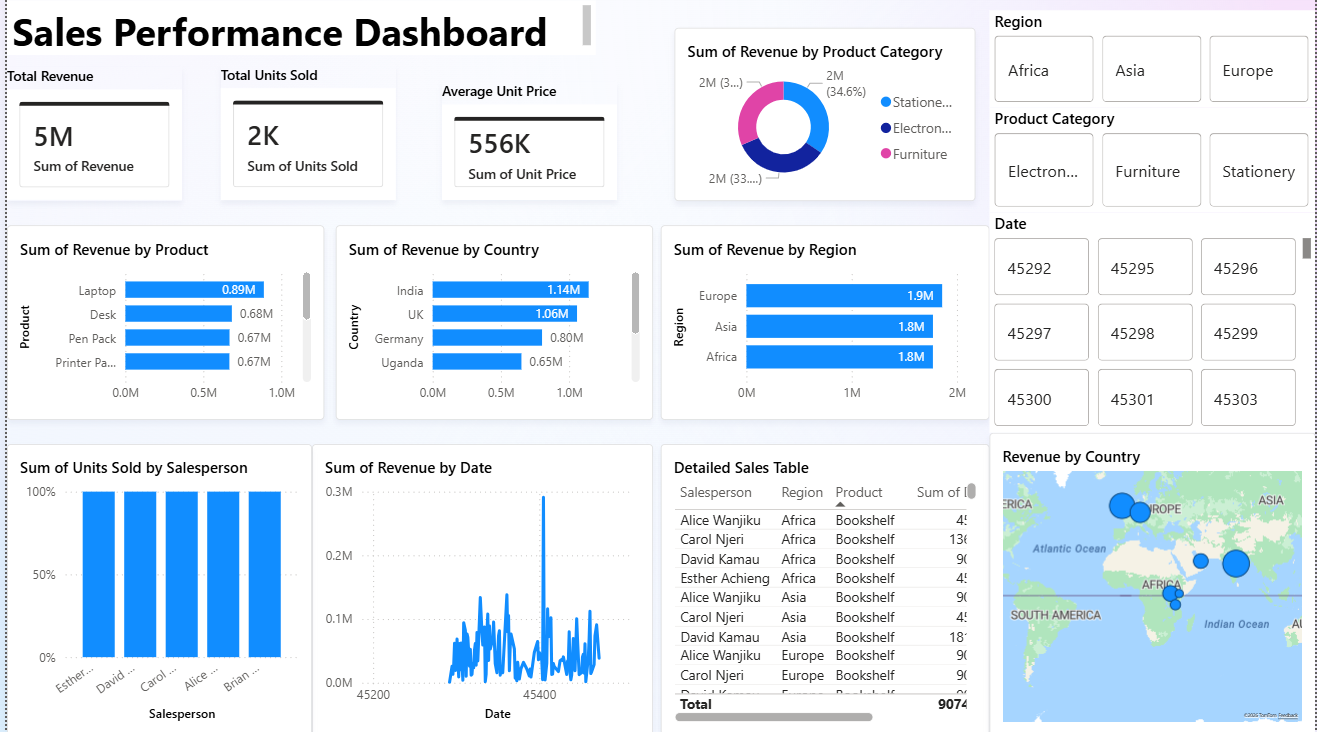

What the dashboard file says about the page in this screenshot:
{"tool":"powerbi","page":{"name":"Page 1","canvas":[1280,720],"ordinal":0},"visuals":[{"type":"cardVisual","title":"Total Revenue","fields":{"Data":["Sales.Revenue"]},"box":[0,66,171.2,130.8],"z":0},{"type":"cardVisual","title":"Total Units Sold","fields":{"Data":["Sales.Units Sold"]},"box":[209.1,64.8,171.2,132.1],"z":1000},{"type":"cardVisual","title":"Average Unit Price","fields":{"Data":["Sales.Unit Price"]},"box":[425.5,80.7,171.2,116.2],"z":2000},{"type":"clusteredBarChart","fields":{"Y":["Sales.Revenue"],"Category":["Sales.Region"]},"box":[639.5,221.3,321.6,190.8],"z":3000},{"type":"clusteredBarChart","fields":{"Category":["Sales.Country"],"Y":["Sales.Revenue"]},"box":[321.6,221.3,310.6,190.8],"z":4000},{"type":"donutChart","fields":{"Category":["Sales.Product Category"],"Y":["Sales.Revenue"]},"box":[653,28.1,294.7,170],"z":5000},{"type":"clusteredBarChart","fields":{"Y":["Sales.Revenue"],"Category":["Sales.Product"]},"box":[0,221.3,310.6,190.8],"z":6000},{"type":"lineChart","fields":{"Category":["Sales.Date"],"Y":["Sales.Revenue"]},"box":[298.4,435.3,333.8,284.9],"z":7000},{"type":"hundredPercentStackedColumnChart","fields":{"Category":["Sales.Salesperson"],"Y":["Sales.Units Sold"]},"box":[0,435.3,298.4,284.9],"z":8000},{"type":"tableEx","title":"Detailed Sales Table","fields":{"Values":["Sales.Salesperson","Sales.Region","Sales.Product","Sales.Date","Sales.Revenue"]},"box":[639.5,435.3,321.6,284.9],"z":9000},{"type":"azureMap","title":"Revenue by Country","fields":{"Category":["Sales.Country"],"Size":["Sales.Revenue"]},"box":[961.1,424.3,319.2,295.9],"z":10000},{"type":"textbox","box":[0,1.2,576,53.8],"z":11000},{"type":"advancedSlicerVisual","fields":{"Values":["Sales.Region"]},"box":[961.1,11,319.2,95.4],"z":12000},{"type":"advancedSlicerVisual","fields":{"Values":["Sales.Product Category"]},"box":[961.1,106.4,319.2,102.7],"z":12001},{"type":"advancedSlicerVisual","fields":{"Values":["Sales.Date"]},"box":[961.1,209.1,319.2,215.2],"z":12002}]}

Visuals, with their boxes in screenshot pixels (x1, y1, x2, y2), scaled from the page's 1280x720 canvas onto the 1317x732 screenshot:
"Total Revenue" cardVisual: <region>0, 67, 176, 200</region>
"Total Units Sold" cardVisual: <region>215, 66, 391, 200</region>
"Average Unit Price" cardVisual: <region>438, 82, 614, 200</region>
clusteredBarChart - Sales.Revenue x Sales.Region: <region>658, 225, 989, 419</region>
clusteredBarChart - Sales.Country x Sales.Revenue: <region>331, 225, 650, 419</region>
donutChart - Sales.Product Category x Sales.Revenue: <region>672, 29, 975, 201</region>
clusteredBarChart - Sales.Revenue x Sales.Product: <region>0, 225, 320, 419</region>
lineChart - Sales.Date x Sales.Revenue: <region>307, 443, 650, 731</region>
hundredPercentStackedColumnChart - Sales.Salesperson x Sales.Units Sold: <region>0, 443, 307, 731</region>
"Detailed Sales Table" tableEx: <region>658, 443, 989, 731</region>
"Revenue by Country" azureMap: <region>989, 431, 1316, 731</region>
textbox: <region>0, 1, 593, 56</region>
advancedSlicerVisual - Sales.Region: <region>989, 11, 1316, 108</region>
advancedSlicerVisual - Sales.Product Category: <region>989, 108, 1316, 213</region>
advancedSlicerVisual - Sales.Date: <region>989, 213, 1316, 431</region>
